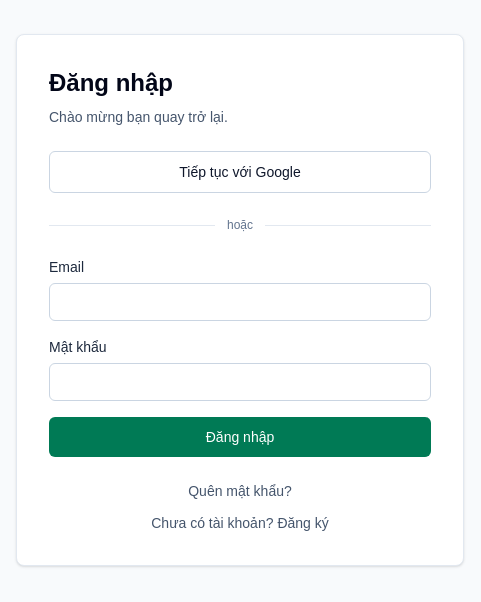
Test case: AuthCard › renders the returned Vietnamese sign-in feedback
Type "an@example.com" into the field labelled "Email" at (240, 302), box [49,283,431,321]
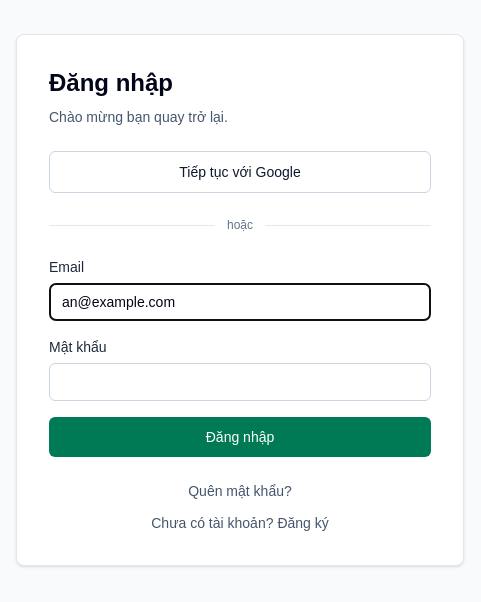
Type "12345678" into the password field labelled "Mật khẩu" at (240, 382), box [49,363,431,401]
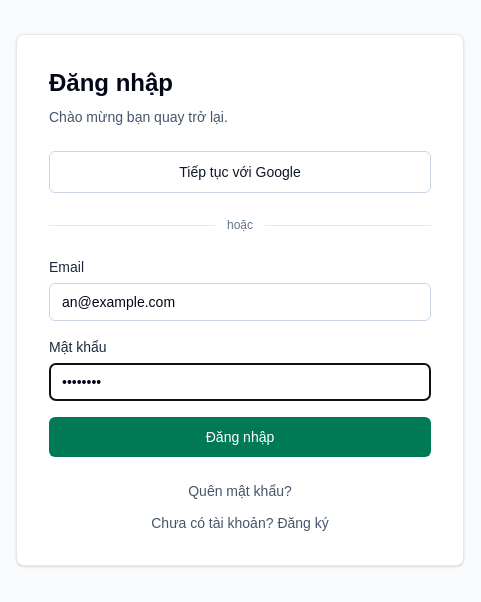
Click the button "Đăng nhập" at (240, 437), box [49,417,431,457]
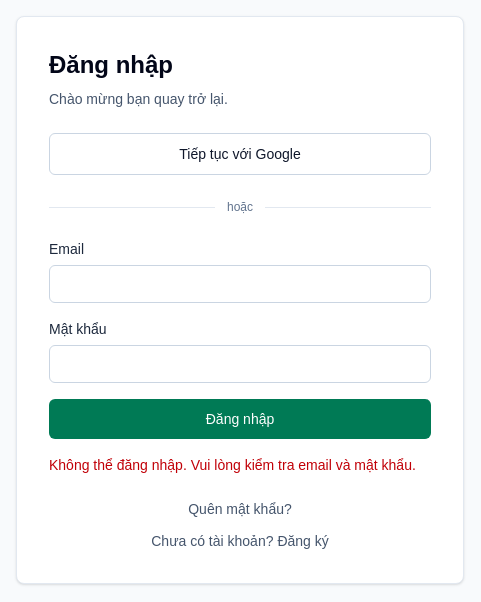
Now the message reads "Không thể đăng nhập. Vui lòng kiểm tra email và mật khẩu.", box [49,457,416,473]
